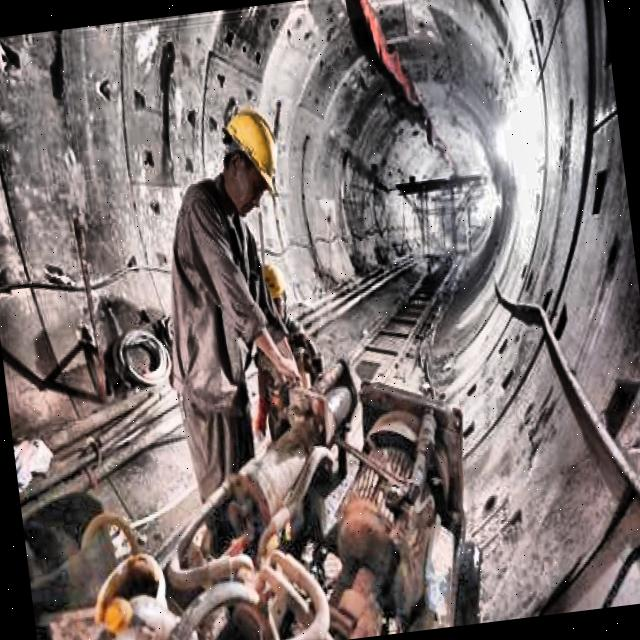helmet: (206, 94, 286, 220), (250, 257, 300, 340)
